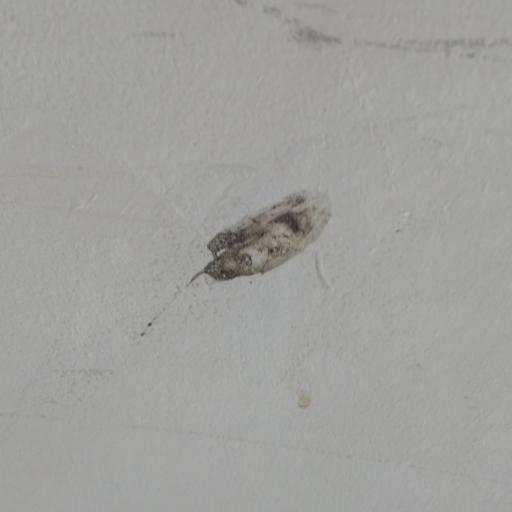stain: (137, 173, 371, 391)
